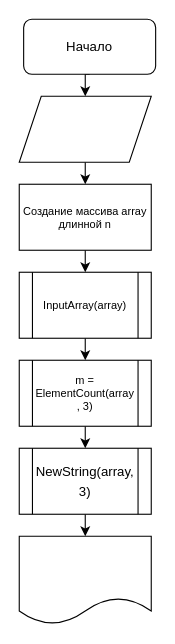
Image size: 175x644. Some labels were removed from this diagram. The box of each missing label's shape, as (x1, y1, x2, y2) in pixels:
Ввод количества элементов массива n: (18, 95, 151, 162)
Вывод NewString[]: (18, 535, 151, 624)
